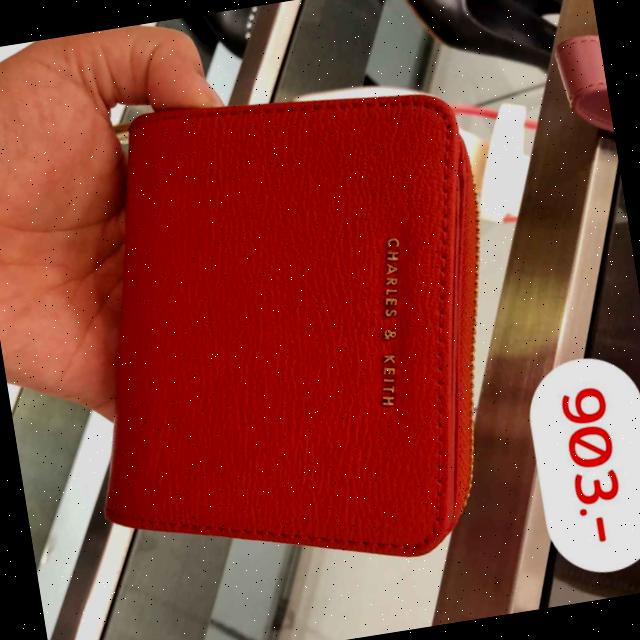Handbag: (23, 36, 554, 615)
